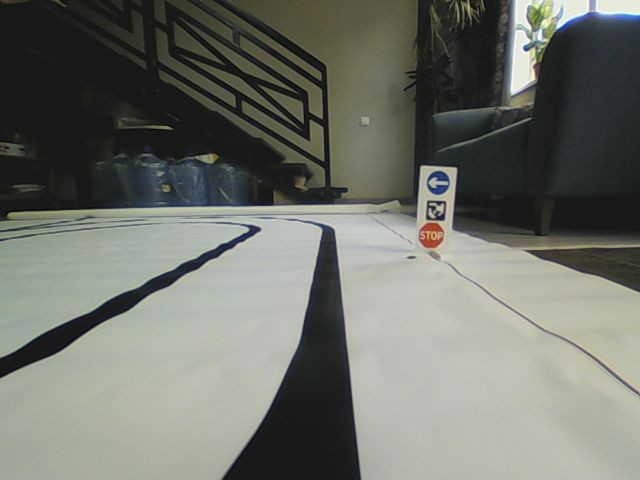Stop: (417, 222, 445, 248)
